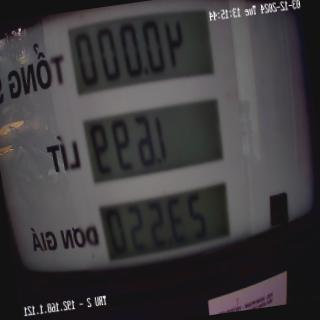screen: (62, 0, 246, 276)
